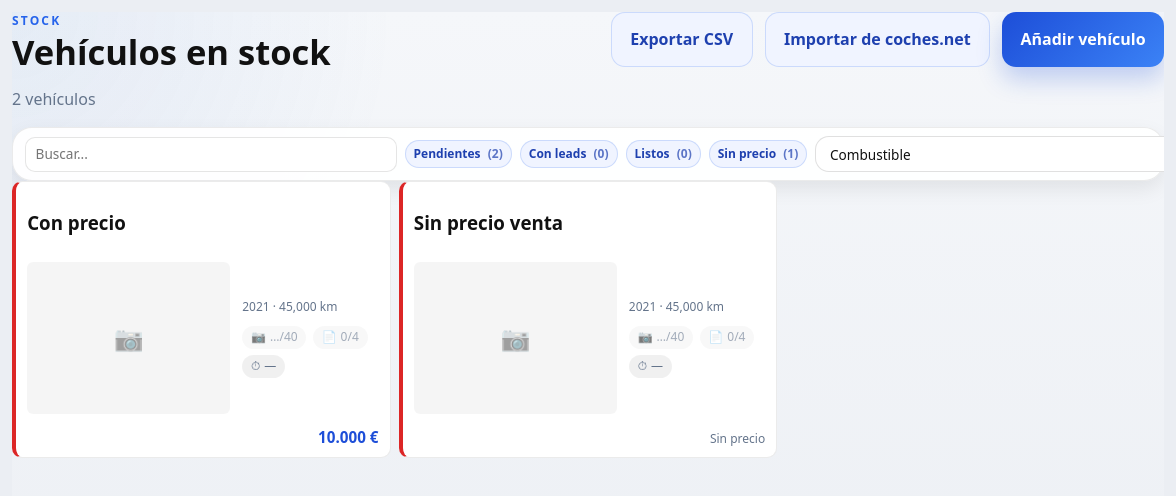
Test: StockList — filter buttons › filters to "Sin precio" vehicles when clicking that filter
The width and height of the screenshot is (1176, 496).
Click the button "Sin precio (1)" at (758, 154), box left=709, top=140, right=807, bottom=168
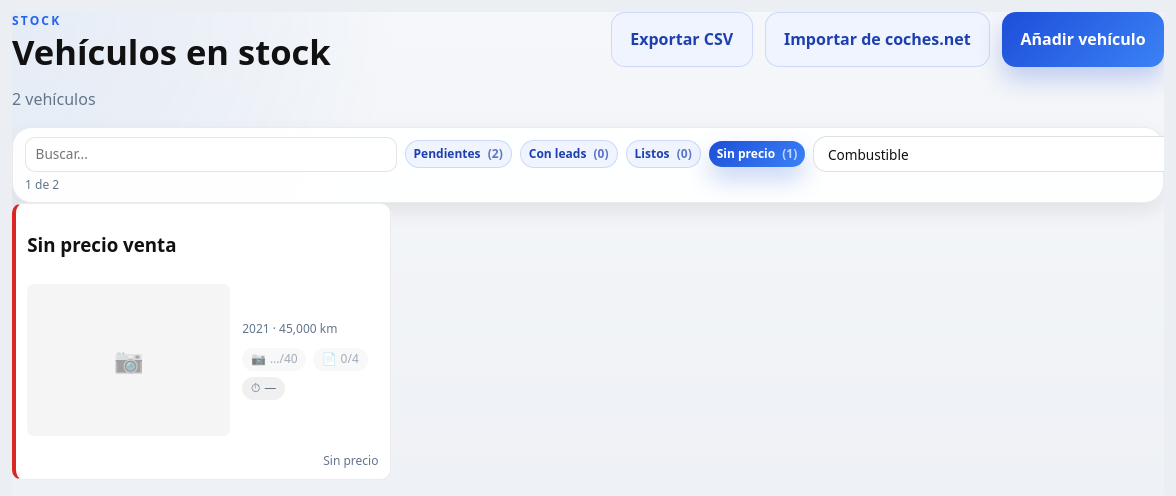
expect the heading "Sin precio venta" is shown: met, box left=27, top=231, right=176, bottom=259
expect the link "Con precio" is gone: met
